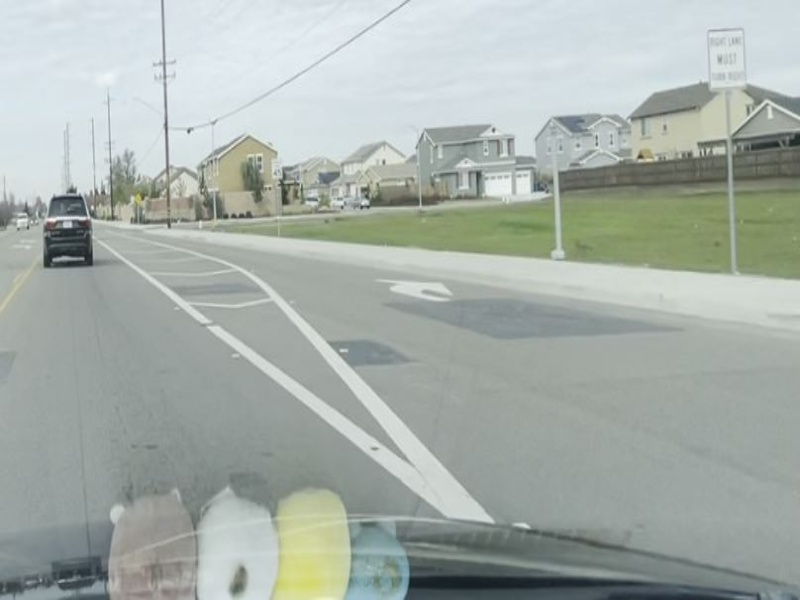merge sign: (704, 27, 749, 93)
